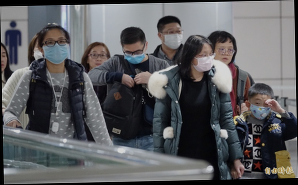with_mask: (42, 35, 71, 65), (247, 97, 271, 120), (162, 25, 184, 50), (193, 50, 215, 72), (123, 46, 146, 65)
without_mask: (88, 49, 109, 69), (215, 44, 235, 65)
